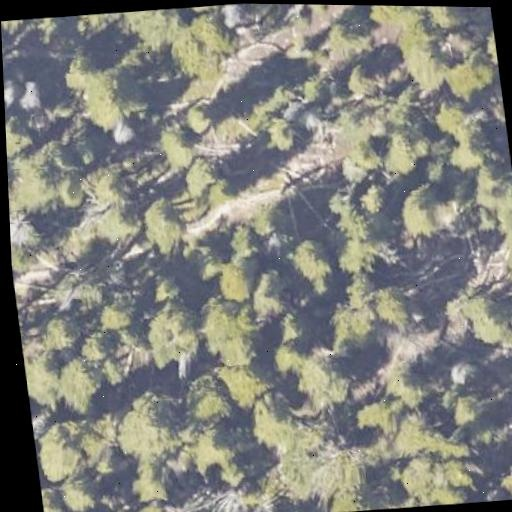tree-top: (106, 387, 185, 470), (167, 6, 245, 86), (191, 291, 271, 367), (387, 443, 474, 510), (136, 295, 210, 370), (69, 62, 144, 135), (386, 15, 450, 92), (283, 344, 354, 413), (444, 281, 512, 353), (32, 417, 96, 485), (323, 218, 388, 284), (6, 146, 66, 216), (243, 391, 309, 453), (320, 291, 383, 351), (372, 119, 433, 180), (49, 352, 110, 412), (177, 367, 236, 429), (283, 229, 341, 291), (427, 92, 489, 150), (216, 356, 279, 412), (318, 10, 379, 67), (159, 133, 213, 197), (440, 47, 502, 101), (122, 451, 179, 508), (186, 420, 244, 476), (368, 277, 424, 334), (393, 183, 447, 242), (134, 197, 188, 255), (242, 261, 294, 317), (208, 255, 261, 308), (82, 165, 135, 215), (386, 361, 444, 406), (49, 218, 102, 267), (177, 152, 228, 200), (93, 197, 145, 243), (352, 394, 405, 438), (35, 310, 84, 356), (54, 469, 105, 512), (23, 351, 64, 403), (153, 121, 198, 168), (93, 290, 140, 334), (440, 393, 484, 439), (317, 485, 389, 512), (262, 113, 303, 156), (272, 305, 312, 349), (400, 410, 438, 453), (223, 224, 265, 262), (5, 112, 38, 160), (481, 176, 512, 227), (346, 132, 382, 174), (335, 62, 377, 98), (11, 76, 48, 116), (147, 270, 185, 308), (445, 141, 486, 176), (130, 9, 173, 41), (47, 174, 83, 212), (65, 11, 125, 33), (442, 357, 479, 392), (180, 99, 218, 133), (356, 180, 392, 215), (298, 72, 332, 109), (420, 6, 469, 31), (367, 5, 418, 29), (492, 221, 512, 281), (9, 207, 38, 248), (327, 192, 362, 225), (479, 15, 499, 72), (491, 452, 512, 502), (39, 478, 67, 512), (31, 16, 67, 42), (250, 212, 283, 240), (3, 76, 26, 113), (289, 32, 319, 59), (1, 18, 35, 37), (177, 4, 230, 16), (129, 502, 186, 512), (499, 123, 511, 167)
